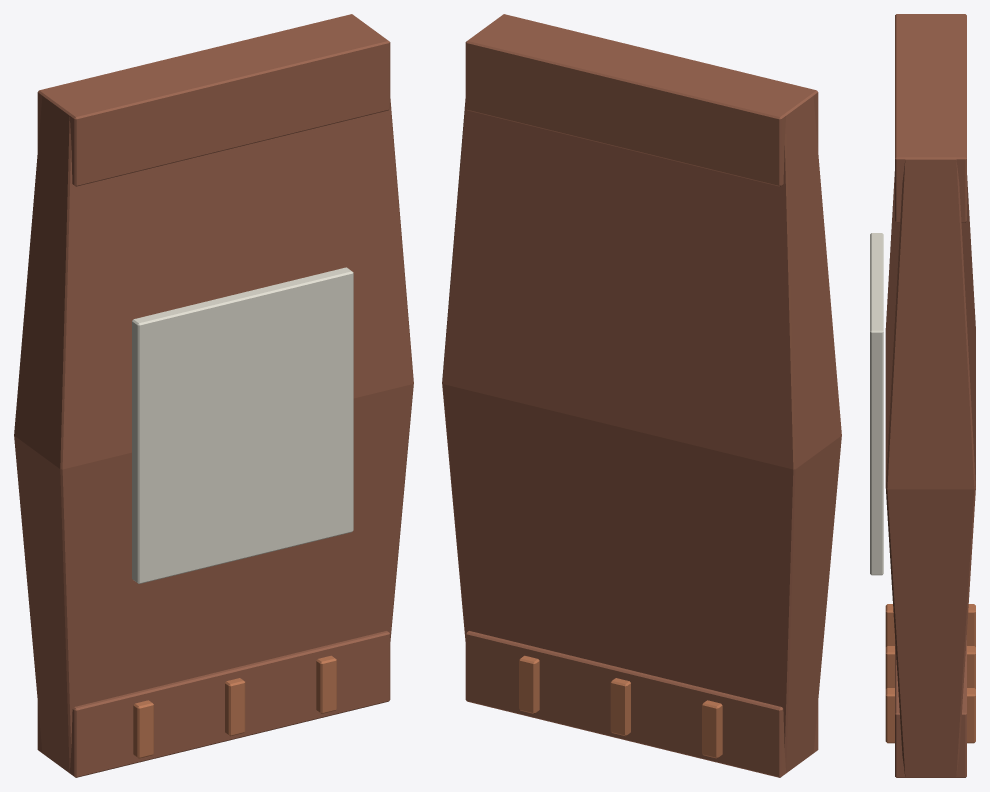
File: b16_ketchup_sachet.glb
3 renders of one model, left to right at view 1: azimuth 30°, elevation 25°; view 2: azimuth 150°, elevation 25°; view 3: azimuth 270°, elevation 25°, orthographic. The views are drawn at different scales.
Visible parts, largest first — view 1: b16_ketchup_sachet; view 2: b16_ketchup_sachet; view 3: b16_ketchup_sachet.
Part boxes in pixels (left/top/right/bottom): b16_ketchup_sachet: left=14, top=14, right=413, bottom=777; b16_ketchup_sachet: left=442, top=14, right=841, bottom=777; b16_ketchup_sachet: left=870, top=14, right=975, bottom=777.
Size of the model in its own units: 0.0426 by 0.076 by 0.0117.
